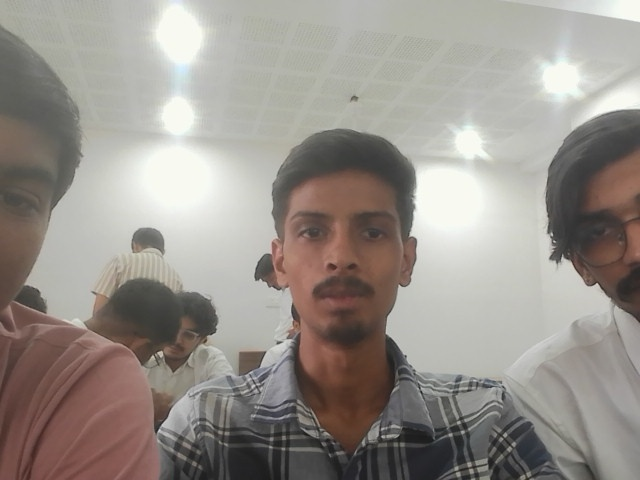light_on: (151, 87, 203, 133), (546, 69, 599, 109), (446, 119, 490, 157), (615, 5, 636, 25)
person: (0, 32, 162, 478), (498, 109, 639, 479), (142, 290, 236, 431), (72, 264, 167, 352), (113, 224, 195, 297)
